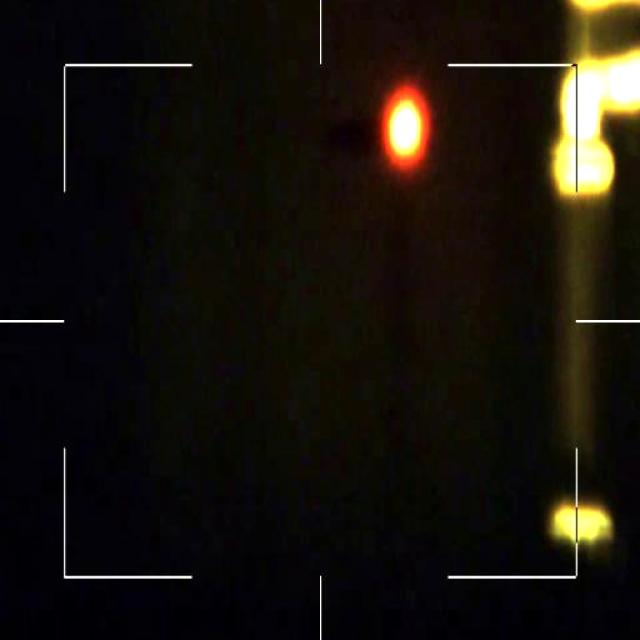bird: (382, 85, 430, 168)
